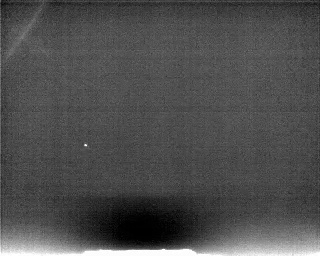BIRD: (82, 140, 90, 150)
